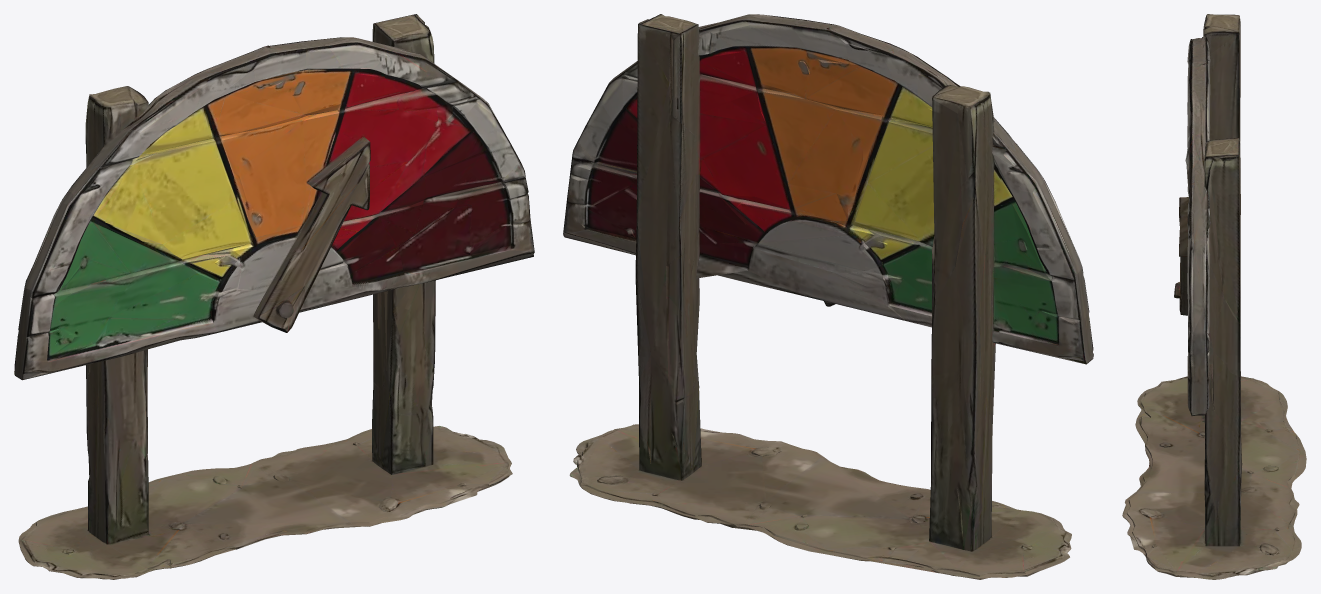
The model's file is fire_danger_sign.glb.
The picture shows the model from 3 angles, left to right: view 1: azimuth 30°, elevation 25°; view 2: azimuth 150°, elevation 25°; view 3: azimuth 270°, elevation 25°; orthographic projection. The views are drawn at different scales.
Size of the model in its own units: 1.9 by 1.65 by 0.662.
Materials: 1 (1 with a texture image).
